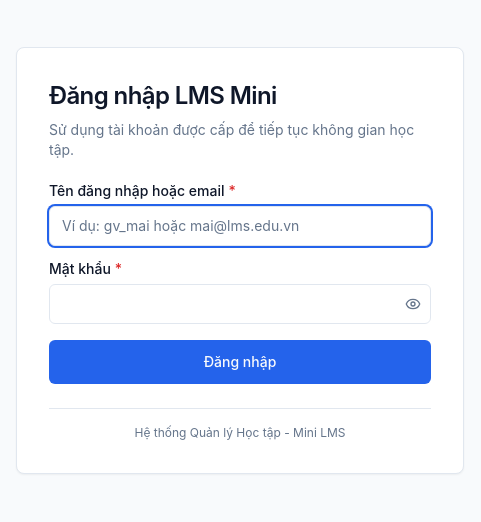
M1 LoginPage & LoginForm (US-01) › displays server error for invalid credentials (401)
This screenshot has width=481, height=522.
Type "gv_mai" into the field labelled "Tên đăng nhập hoặc email*".
click(240, 226); type("gv_mai")  # box [49,206,431,246]
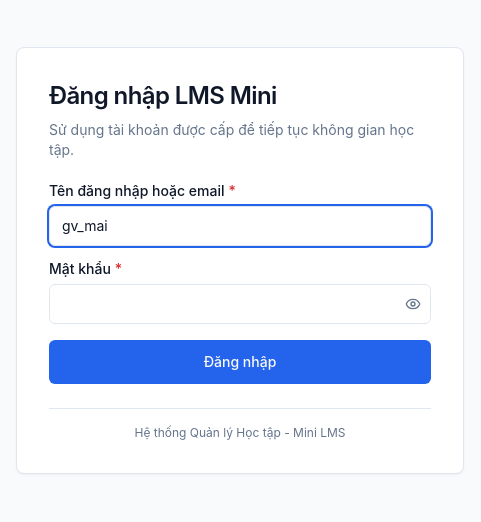
Type "SaiMatKhau" into the password field labelled "Mật khẩu*".
click(240, 304); type("SaiMatKhau")  # box [49,284,431,324]
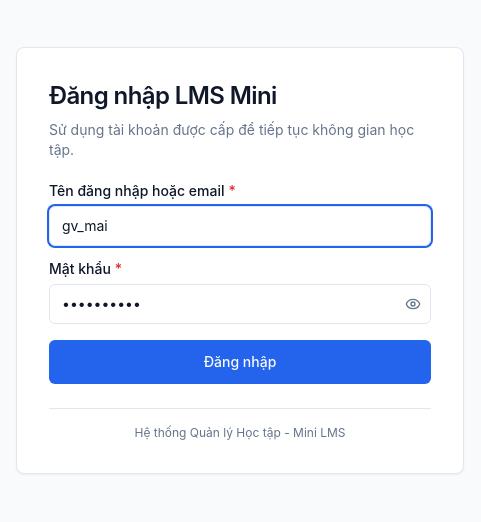
Click the button "Đăng nhập".
click(240, 362)  # box [49,340,431,384]
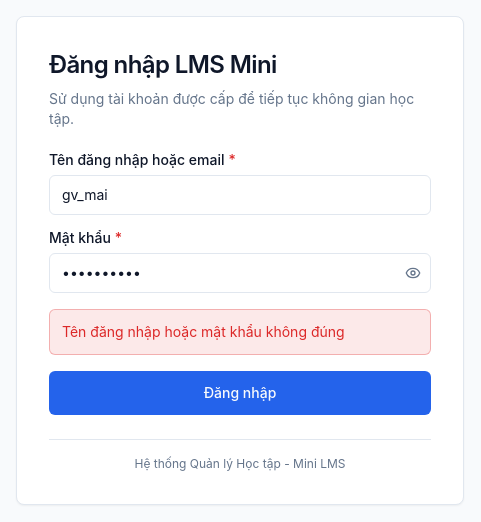
Check: the message reads "Tên đăng nhập hoặc mật khẩu không đúng", box [62,322,345,340]
